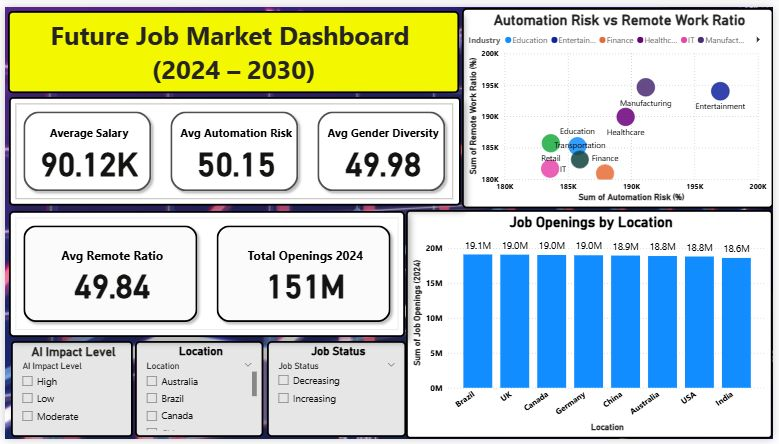

What the dashboard file says about the page in this screenshot:
{"tool":"powerbi","page":{"name":"Page 1","canvas":[1280,720],"ordinal":0},"visuals":[{"type":"scatterChart","title":"Automation Risk vs Remote Work Ratio","fields":{"X":["Sum(AI Impact on Job Market (2024–2030).Automation Risk (%))"],"Y":["Sum(AI Impact on Job Market (2024–2030).Remote Work Ratio (%))"],"Size":["Sum(AI Impact on Job Market (2024–2030).Median Salary (USD))"],"Series":["AI Impact on Job Market (2024–2030).Industry"]},"box":[760.9,1.7,519.1,334.3],"z":0},{"type":"textbox","box":[5.3,7,751.8,137.3],"z":1000},{"type":"slicer","title":"AI Impact  Level","fields":{"Values":["AI Impact on Job Market (2024–2030).AI Impact Level"]},"box":[9.2,556.2,202.6,160.2],"z":2000},{"type":"slicer","title":"Location","fields":{"Values":["AI Impact on Job Market (2024–2030).Location"]},"box":[217.3,556.2,213.6,160.2],"z":3000},{"type":"slicer","title":"Job Status","fields":{"Values":["AI Impact on Job Market (2024–2030).Job Status"]},"box":[436.5,556.2,232.1,160.2],"z":4000},{"type":"columnChart","title":"Job Openings by Location","fields":{"Category":["AI Impact on Job Market (2024–2030).Location"],"Y":["Sum(AI Impact on Job Market (2024–2030).Job Openings (2024))"]},"box":[668.6,337.6,611.4,381.3],"z":5000},{"type":"cardVisual","fields":{"Data":["AI Impact on Job Market (2024–2030).Average Salary","AI Impact on Job Market (2024–2030).Avg Automation Risk","AI Impact on Job Market (2024–2030).Avg Gender Diversity"]},"box":[6.7,149.5,752.5,181.4],"z":6000},{"type":"cardVisual","fields":{"Data":["AI Impact on Job Market (2024–2030).Avg Remote Ratio","AI Impact on Job Market (2024–2030).Total Openings 2024"]},"box":[6.7,339.3,660.2,210],"z":7000}]}

Visuals, with their boxes in screenshot pixels (x1, y1, x2, y2), scaled from the page's 1280x720 canvas onto the 779x444 screenshot:
"Automation Risk vs Remote Work Ratio" scatterChart: bbox=[463, 1, 778, 207]
textbox: bbox=[3, 4, 461, 89]
"AI Impact  Level" slicer: bbox=[6, 343, 129, 442]
"Location" slicer: bbox=[132, 343, 262, 442]
"Job Status" slicer: bbox=[266, 343, 407, 442]
"Job Openings by Location" columnChart: bbox=[407, 208, 778, 443]
cardVisual - AI Impact on Job Market (2024–2030).Average Salary x AI Impact on Job Market (2024–2030).Avg Automation Risk: bbox=[4, 92, 462, 204]
cardVisual - AI Impact on Job Market (2024–2030).Avg Remote Ratio x AI Impact on Job Market (2024–2030).Total Openings 2024: bbox=[4, 209, 406, 339]
